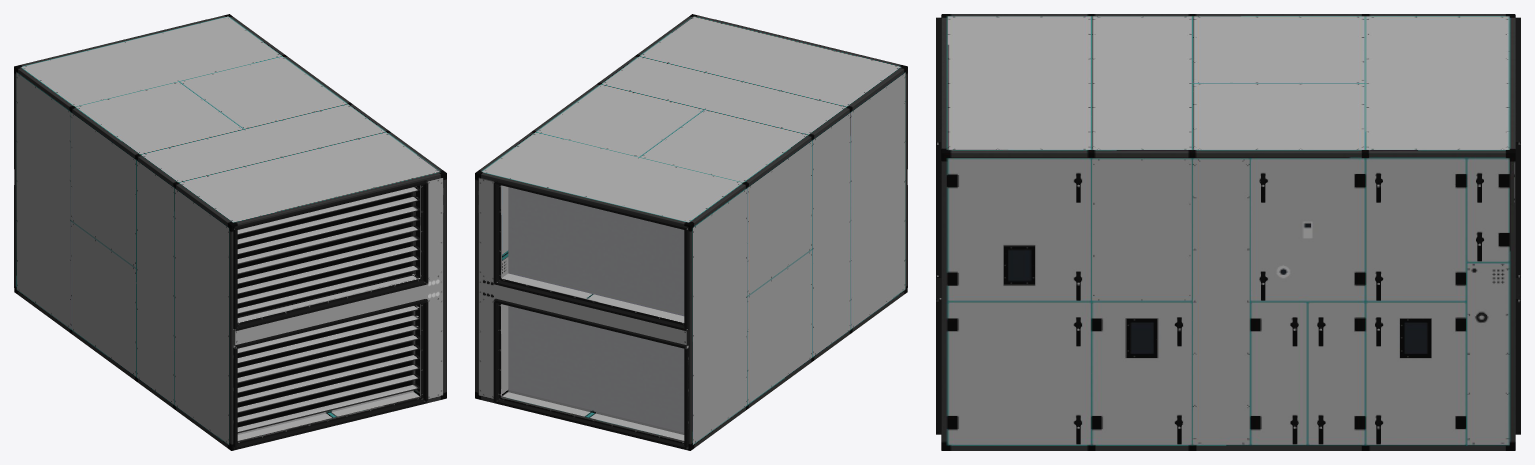
File: Geniox_Big-Expo_2K_PBR.glb
The picture shows the model from 3 angles, left to right: view 1: azimuth 30°, elevation 25°; view 2: azimuth 150°, elevation 25°; view 3: azimuth 270°, elevation 25°; orthographic projection. The views are drawn at different scales.
Parts seen in each view (by area): view 1: Geniox_Big-Expo; view 2: Geniox_Big-Expo; view 3: Geniox_Big-Expo.
Boxes of the visible parts, bbox=[...] form: Geniox_Big-Expo: bbox=[14, 14, 446, 450]; Geniox_Big-Expo: bbox=[475, 14, 907, 450]; Geniox_Big-Expo: bbox=[936, 14, 1520, 450].
Size of the model in its own units: 2.34 by 2.28 by 4.05.
Materials: 1 (1 with a texture image).
